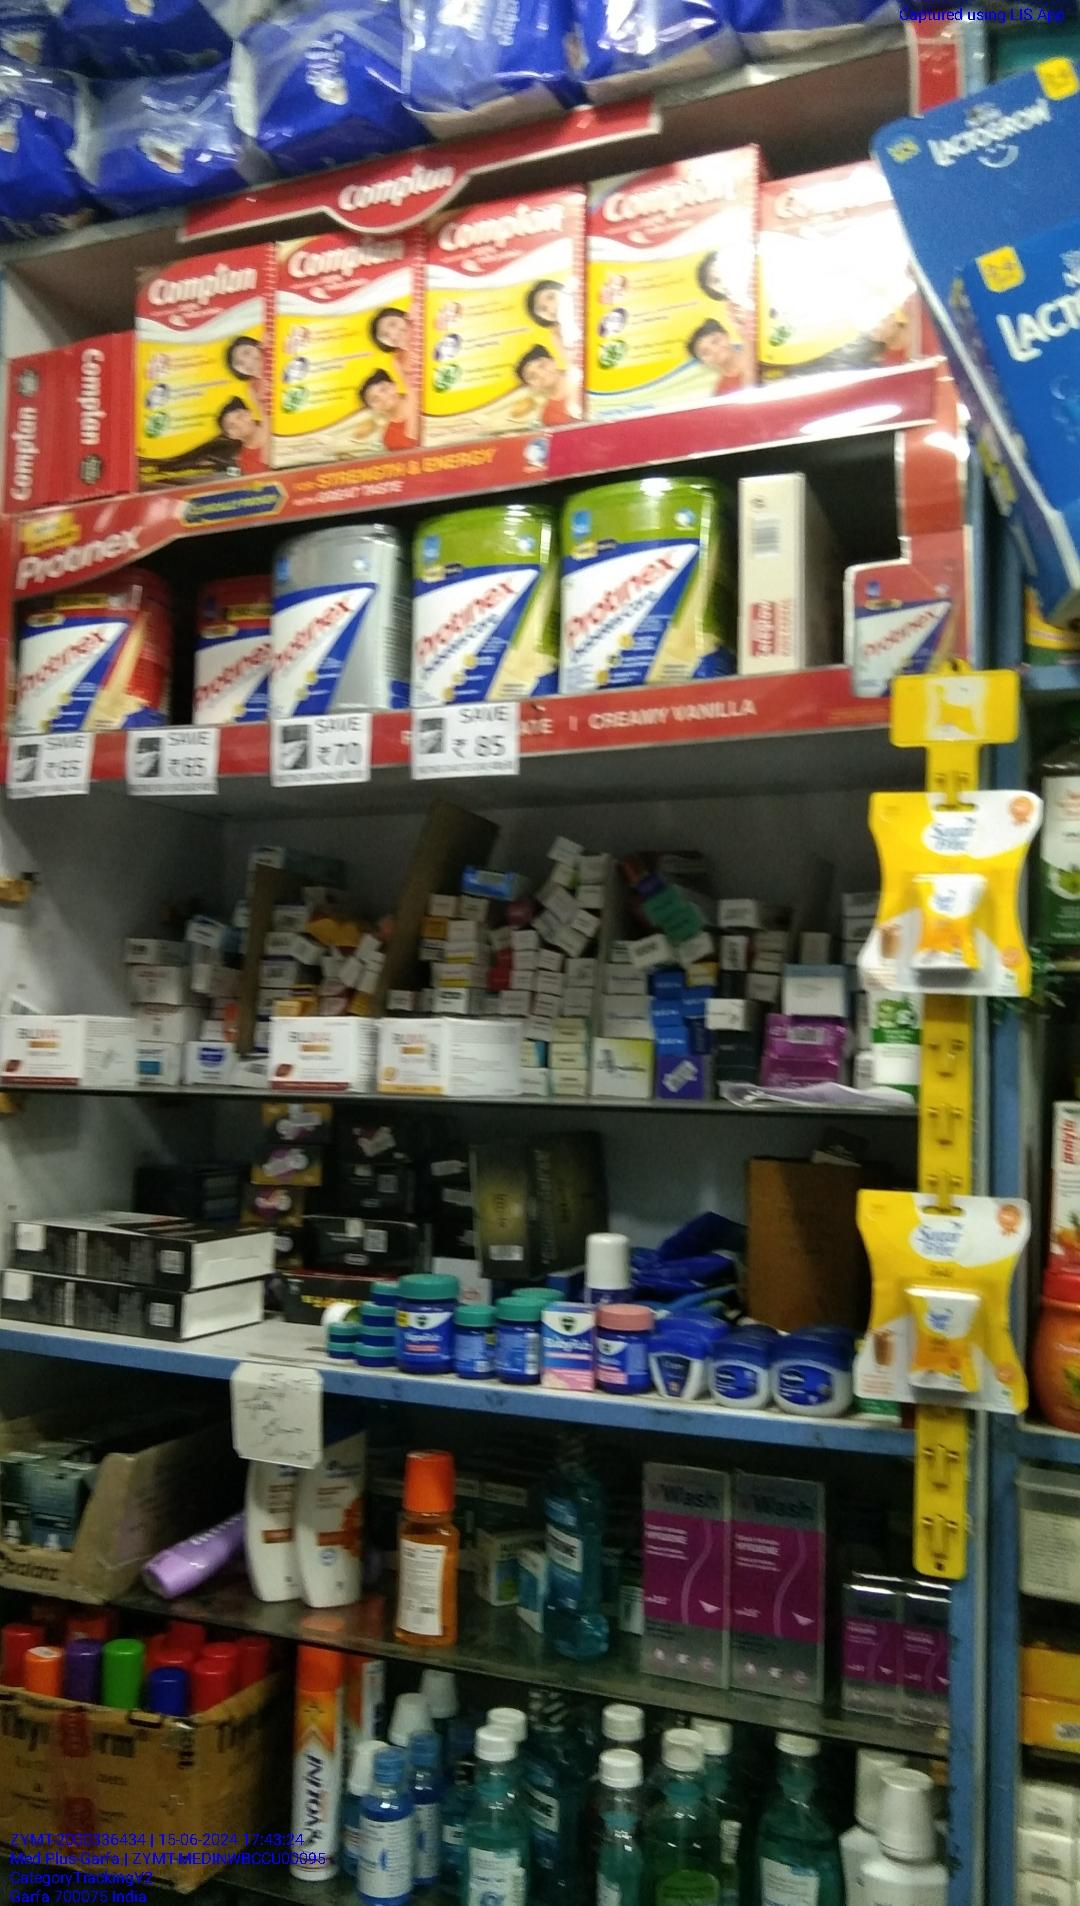COMPLAN_CHOCOLATE_200_GMS_PACK: (759, 183, 911, 381)
COMPLAN_CREAMY_CLASSIC_500_G_PACK: (589, 162, 754, 395)
PROTINEX_ORIGINAL_400_G_JAR: (271, 533, 391, 716)
PROTINEX_VANILLA_400_G_JAR: (17, 594, 135, 734)
